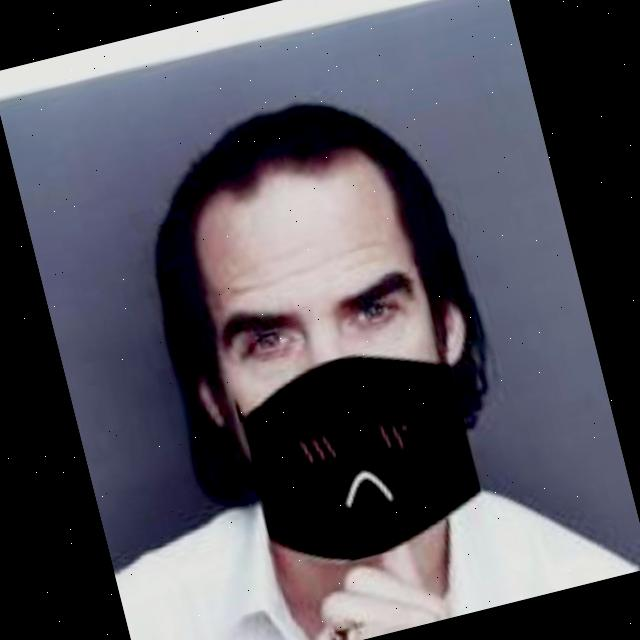suspicion: (104, 56, 521, 592)
